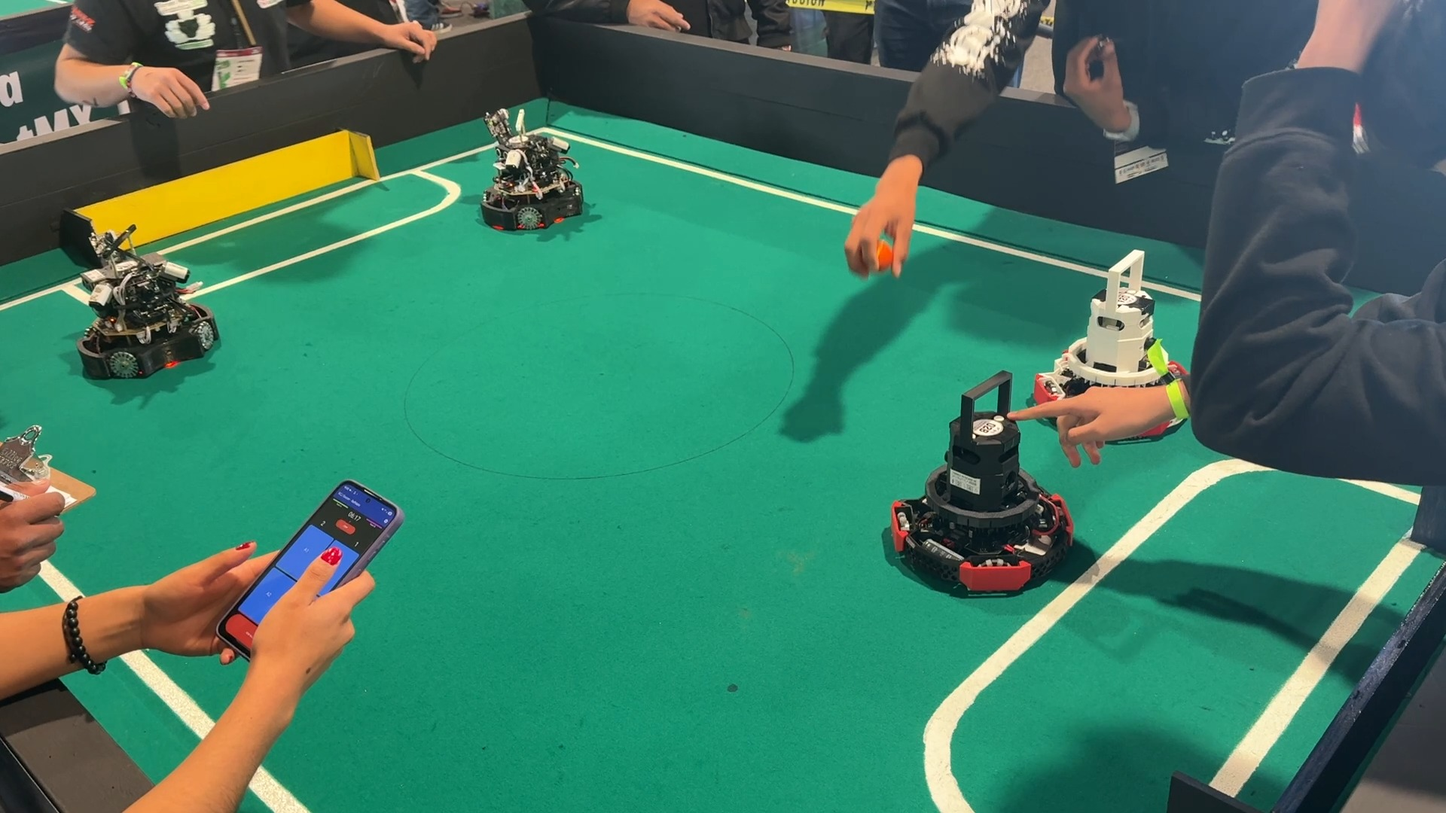Robot: (874, 368, 1110, 616), (1027, 240, 1220, 442), (56, 217, 238, 403), (448, 96, 609, 256)
